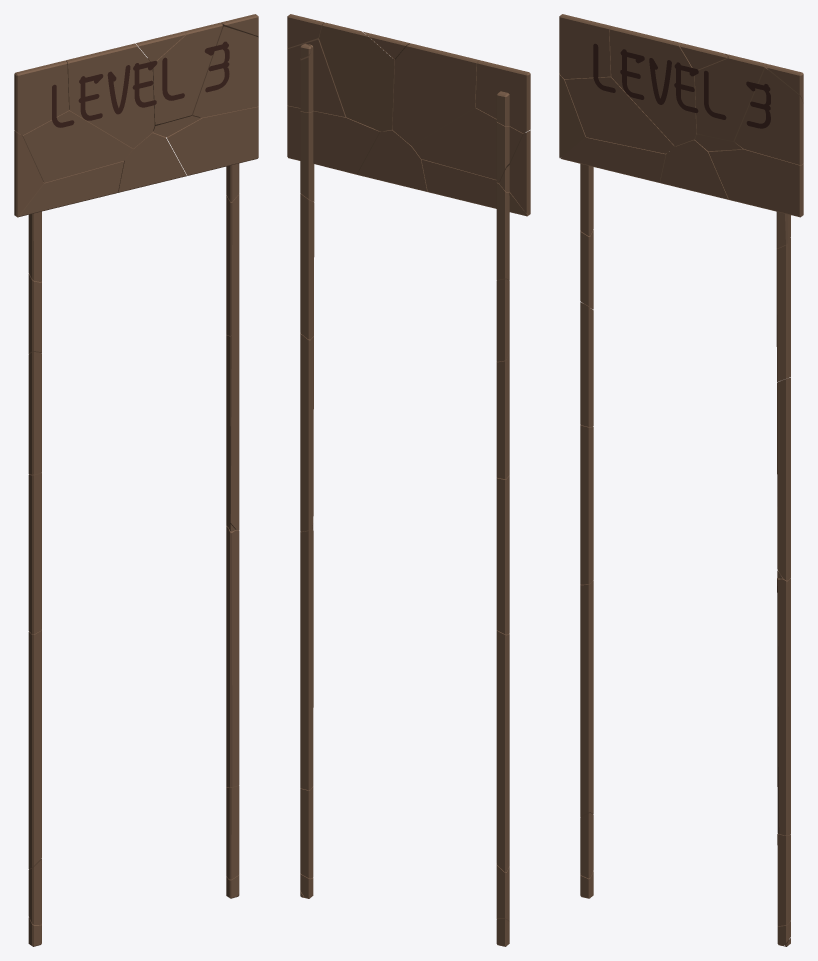
Rendered from bsign-level3.fbx.
3 renders of one model, left to right at view 1: azimuth 30°, elevation 25°; view 2: azimuth 150°, elevation 25°; view 3: azimuth 330°, elevation 25°, orthographic.
Visible parts, largest first — view 1: sign_level3_01.005, sign_level3_01.001_cell.024, sign_level3_01.001_cell.014, sign_level3_01.007, sign_level3_01.001_cell.023, sign_level3_01.001_cell.008, sign_level3_01.001_cell.002, sign_level3_01.001_cell.022, sign_level3_01.001_cell.006, sign_level3_01.001_cell.018, sign_level3_01.001_cell.015, sign_level3_01.001_cell.007 (+8 smaller); view 2: sign_level3_01.005, sign_level3_01.007, sign_level3_01.001_cell.024, sign_level3_01.001_cell.014, sign_level3_01.001_cell.008, sign_level3_01.001_cell.002, sign_level3_01.001_cell.022, sign_level3_01.001_cell.006, sign_level3_01.001_cell.023, sign_level3_01.001_cell.018, sign_level3_01.001_cell.015, sign_level3_01.001_cell.007 (+7 smaller); view 3: sign_level3_01.005, sign_level3_01.001_cell.024, sign_level3_01.001_cell.014, sign_level3_01.001_cell.023, sign_level3_01.007, sign_level3_01.001_cell.008, sign_level3_01.001_cell.002, sign_level3_01.001_cell.022, sign_level3_01.001_cell.006, sign_level3_01.001_cell.018, sign_level3_01.001_cell.015, sign_level3_01.001_cell.007 (+8 smaller).
Part boxes in pixels (<box>): sign_level3_01.005: <box>65,43,157,148</box>; sign_level3_01.001_cell.024: <box>166,106,258,201</box>; sign_level3_01.001_cell.014: <box>21,84,132,182</box>; sign_level3_01.007: <box>147,22,222,127</box>; sign_level3_01.001_cell.023: <box>193,26,258,117</box>; sign_level3_01.001_cell.008: <box>16,161,123,282</box>; sign_level3_01.001_cell.002: <box>226,526,239,787</box>; sign_level3_01.001_cell.022: <box>28,629,41,868</box>; sign_level3_01.001_cell.006: <box>14,60,68,135</box>; sign_level3_01.001_cell.018: <box>226,328,239,530</box>; sign_level3_01.001_cell.015: <box>118,131,186,192</box>; sign_level3_01.001_cell.007: <box>28,473,41,634</box>; sign_level3_01.005: <box>392,43,479,145</box>; sign_level3_01.007: <box>319,22,394,131</box>; sign_level3_01.001_cell.024: <box>287,105,379,201</box>; sign_level3_01.001_cell.014: <box>412,108,524,182</box>; sign_level3_01.001_cell.008: <box>421,159,528,280</box>; sign_level3_01.001_cell.002: <box>300,529,313,790</box>; sign_level3_01.001_cell.022: <box>496,630,509,872</box>; sign_level3_01.001_cell.006: <box>475,60,530,133</box>; sign_level3_01.001_cell.023: <box>287,35,345,116</box>; sign_level3_01.001_cell.018: <box>300,333,313,531</box>; sign_level3_01.001_cell.015: <box>357,129,427,191</box>; sign_level3_01.001_cell.007: <box>496,475,509,634</box>; sign_level3_01.005: <box>609,26,698,146</box>; sign_level3_01.001_cell.024: <box>708,147,803,248</box>; sign_level3_01.001_cell.014: <box>564,43,674,153</box>; sign_level3_01.001_cell.023: <box>734,68,803,164</box>; sign_level3_01.007: <box>694,53,767,143</box>; sign_level3_01.001_cell.008: <box>560,137,668,236</box>; sign_level3_01.001_cell.002: <box>777,576,790,835</box>; sign_level3_01.001_cell.022: <box>580,580,593,816</box>; sign_level3_01.001_cell.006: <box>559,14,612,78</box>; sign_level3_01.001_cell.018: <box>777,377,790,580</box>; sign_level3_01.001_cell.015: <box>660,139,729,199</box>; sign_level3_01.001_cell.007: <box>580,425,593,584</box>.
Bounding box in the file's own units: 92.94 × 322 × 4.88.
